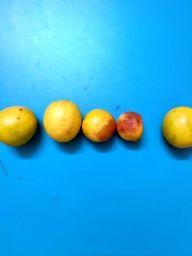lemon: (44, 99, 83, 144), (0, 104, 38, 148), (161, 106, 192, 150), (82, 109, 117, 144), (115, 111, 144, 143)
